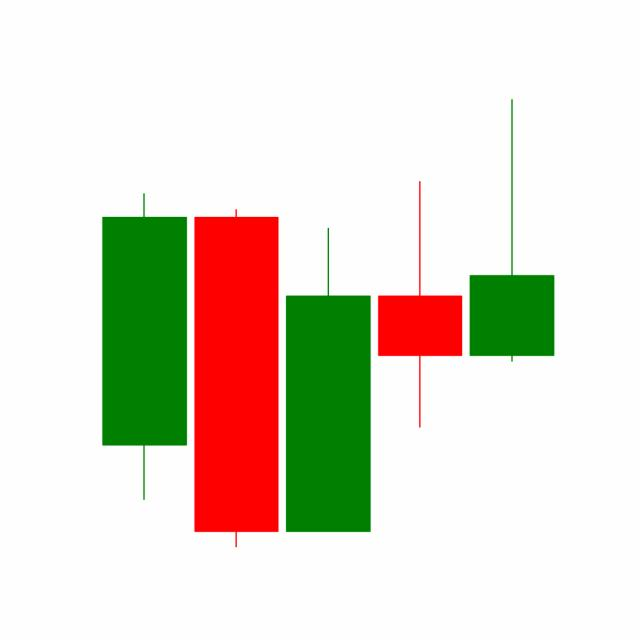Spinning Top: (373, 177, 467, 430)
